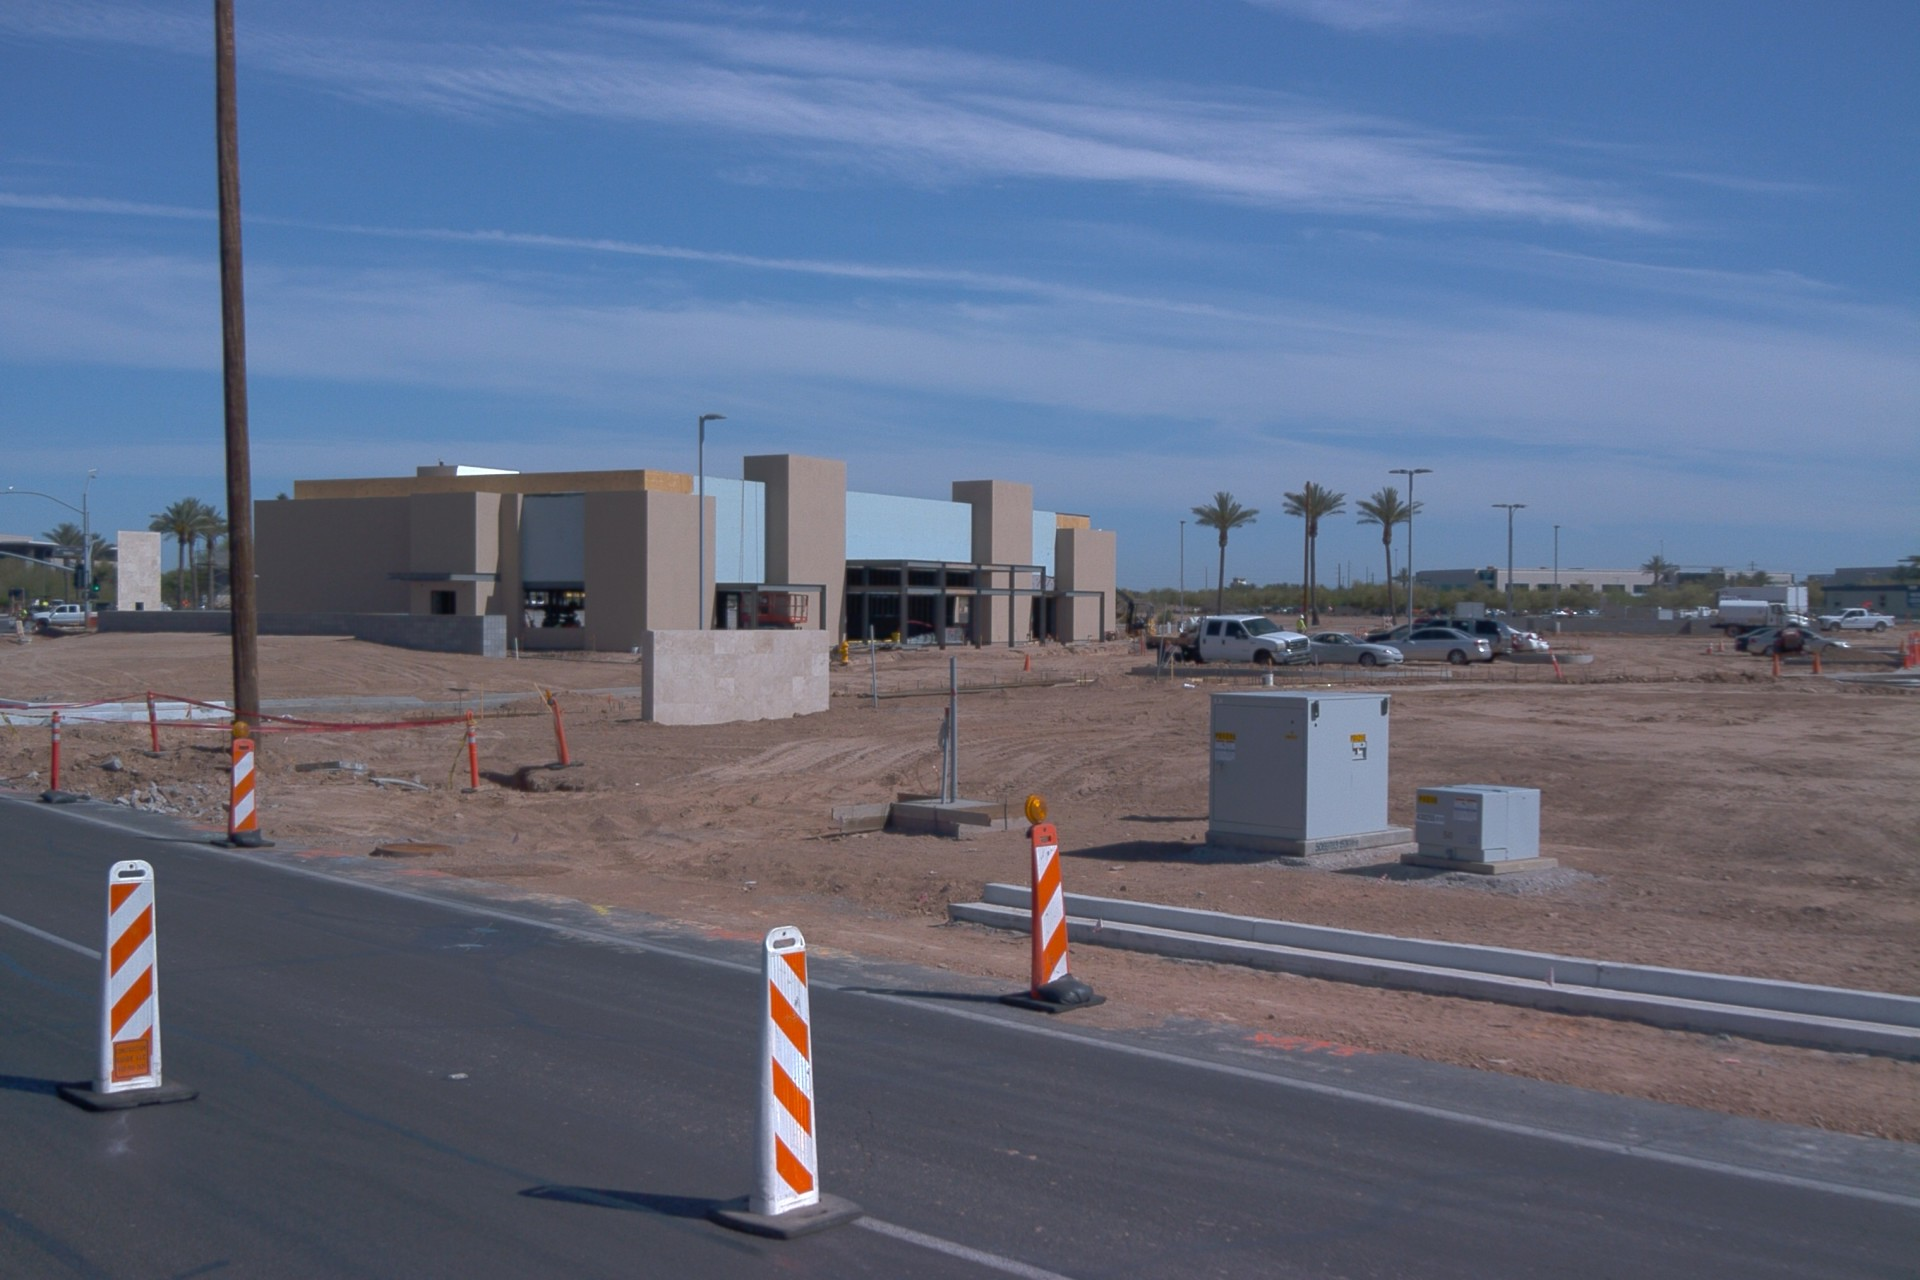TYPE_PEDESTRIAN: (1295, 613, 1308, 634), (1442, 614, 1450, 623)
TYPE_VEHICLE: (1144, 611, 1315, 670), (1415, 611, 1517, 670), (1372, 625, 1493, 665), (1710, 597, 1815, 641), (1746, 624, 1852, 657), (1307, 629, 1405, 663), (1817, 612, 1896, 636), (30, 604, 100, 630), (1733, 627, 1774, 653), (1508, 628, 1544, 653), (1510, 627, 1534, 659), (1180, 615, 1201, 635), (33, 593, 54, 609), (1536, 633, 1549, 647), (1421, 614, 1447, 621), (1487, 608, 1508, 616), (162, 601, 173, 612)
